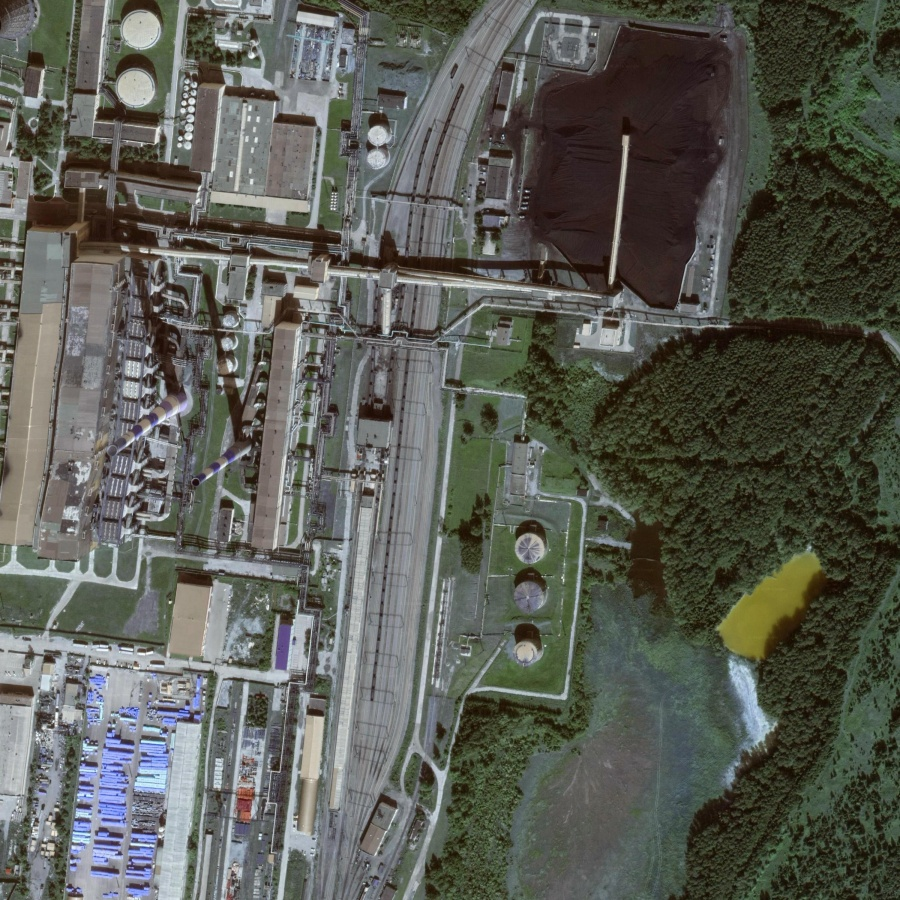PowerPlant: (462, 4, 732, 319), (76, 189, 330, 517), (436, 506, 584, 681)
